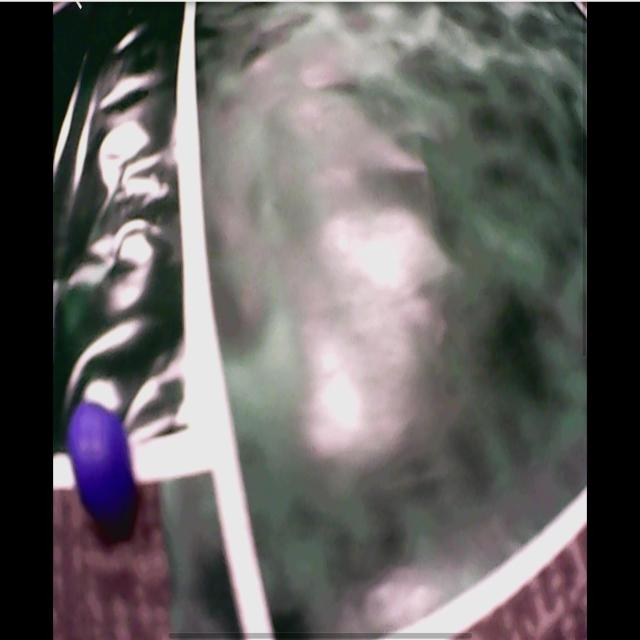ball: (70, 404, 129, 510)
